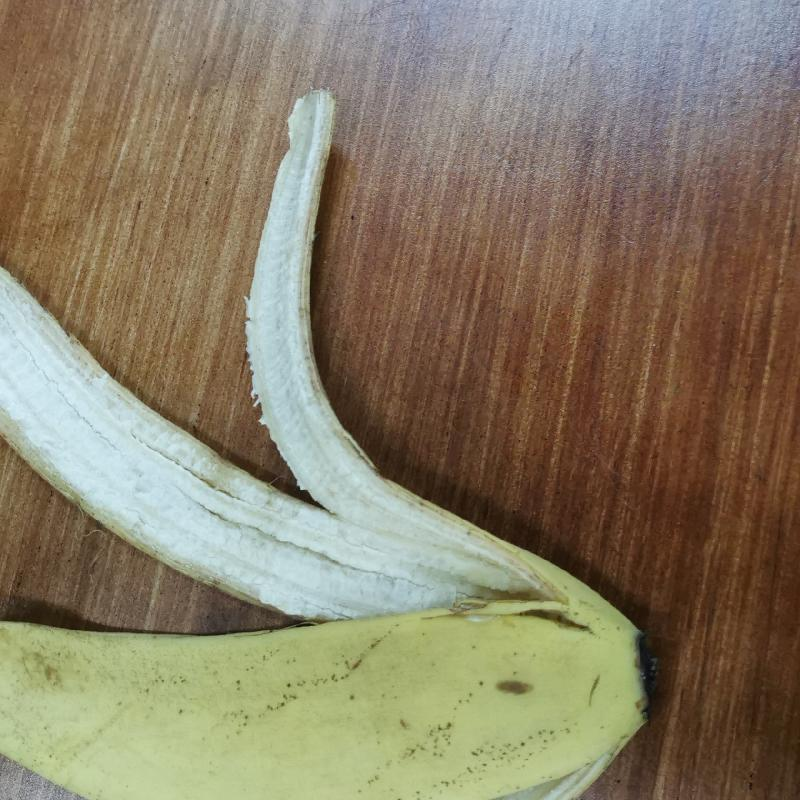bananas: (5, 90, 663, 800)
